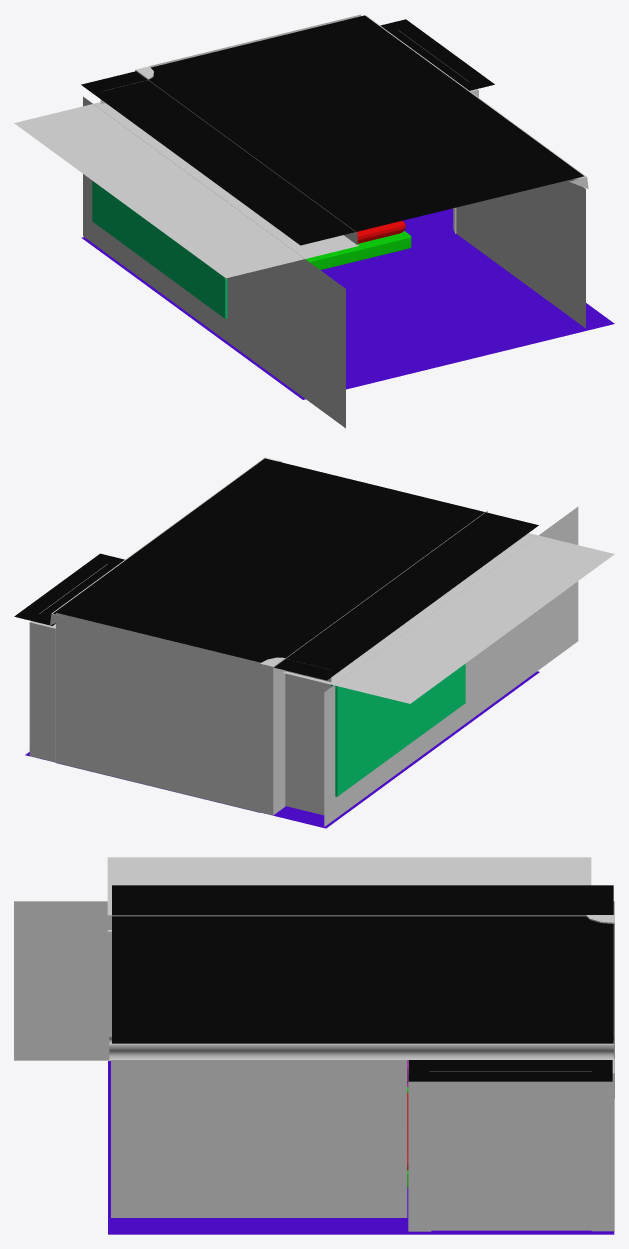
Rendered from BedroomUvModeled.fbx.
3 renders of one model, top to bottom at view 1: azimuth 30°, elevation 25°; view 2: azimuth 150°, elevation 25°; view 3: azimuth 270°, elevation 25°, orthographic. The views are drawn at different scales.
Visible parts, largest first — view 1: Scene2; view 2: Scene2; view 3: Scene2.
Boxes of the visible parts, box(x1,y1,x2,y2) form: Scene2: box(14, 14, 614, 428); Scene2: box(14, 457, 614, 828); Scene2: box(14, 857, 614, 1234).
Bounding box in the file's own units: 1254 × 480 × 1425.
